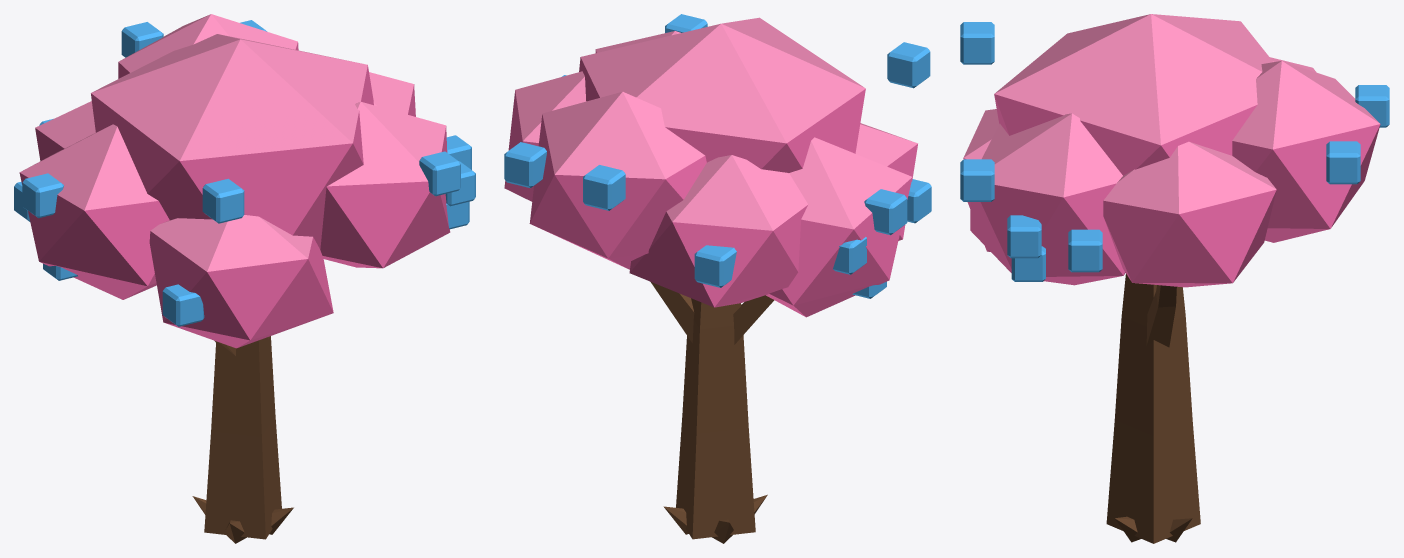
Rendered from CandyTree.fbx.
The picture shows the model from 3 angles, left to right: view 1: azimuth 30°, elevation 25°; view 2: azimuth 150°, elevation 25°; view 3: azimuth 270°, elevation 25°; orthographic projection. The views are drawn at different scales.
Parts seen in each view (by area): view 1: CandyTree; view 2: CandyTree; view 3: CandyTree.
Part boxes in pixels (x1,y1,x2,y2): CandyTree: (14, 14, 475, 543); CandyTree: (504, 14, 931, 543); CandyTree: (960, 14, 1389, 543).
Size of the model in its own units: 11.38 by 13.91 by 10.47.
Materials: 1 (1 with a texture image).
